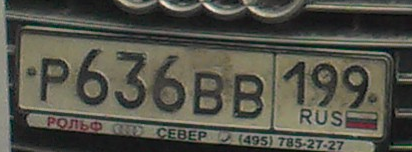character: (110, 47, 149, 111), (74, 45, 110, 111), (150, 51, 188, 113), (228, 71, 268, 121), (38, 56, 74, 108), (191, 70, 227, 119), (279, 59, 310, 107), (310, 61, 341, 109), (342, 61, 369, 110)
